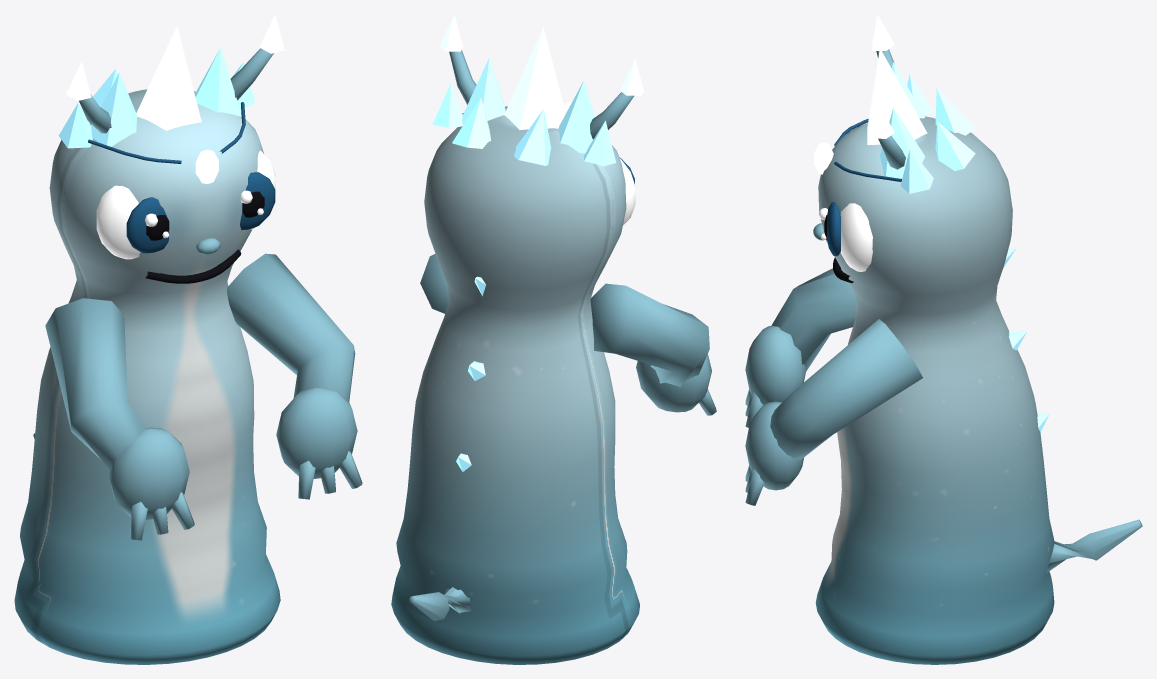
The model's file is copo_pixar.glb.
3 views of the same model, side by side, from view 1: azimuth 30°, elevation 25°; view 2: azimuth 150°, elevation 25°; view 3: azimuth 270°, elevation 25° (orthographic). The views are drawn at different scales.
Visible parts, largest first — view 1: copo_cuerpo; view 2: copo_cuerpo; view 3: copo_cuerpo.
Part boxes in pixels (bbox=[...]): copo_cuerpo: bbox=[14, 14, 362, 664]; copo_cuerpo: bbox=[391, 14, 716, 664]; copo_cuerpo: bbox=[745, 14, 1142, 664].
Bounding box in the file's own units: 0.2833 × 0.58 × 0.3684.
7 materials, 1 textured.
